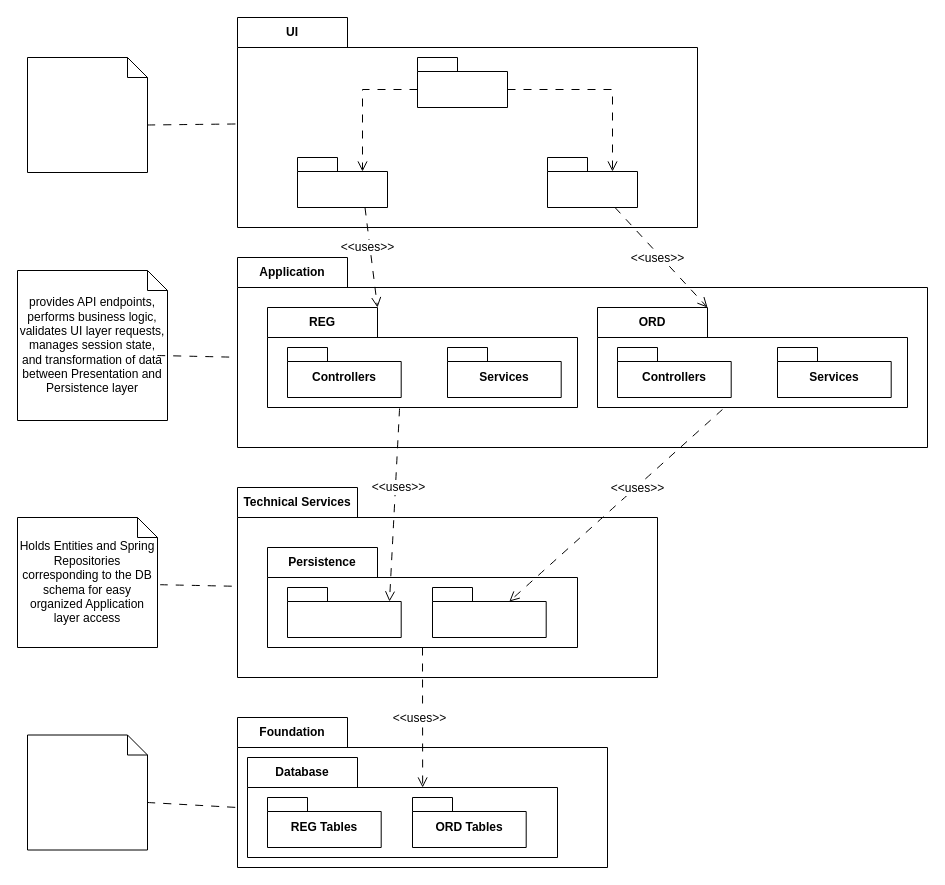
Some shapes in this 945 by 885 pixel diagram are drawn without their labels. Each missing label, with the centre of its shape:
"Dashboard" goes at (462,82).
"GUI pages, HTML, CSS, TypeScript, frontend server, handles presentation of data" goes at (87,114).
"ORD persistence" goes at (489,612).
"Order Core UI" goes at (592,182).
"REG persistence" goes at (343,612).
"Registration UI" goes at (342,182).
"Stores data in a PostgreSQL database hosted on Supabase" goes at (87,792).
